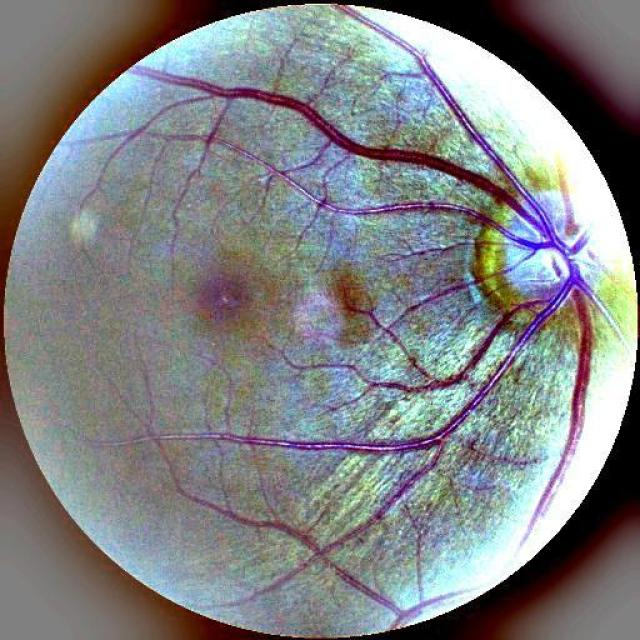Macula: (199, 276, 250, 324)
Nerves: (141, 6, 614, 544)
Optic Disk: (496, 193, 594, 307)
